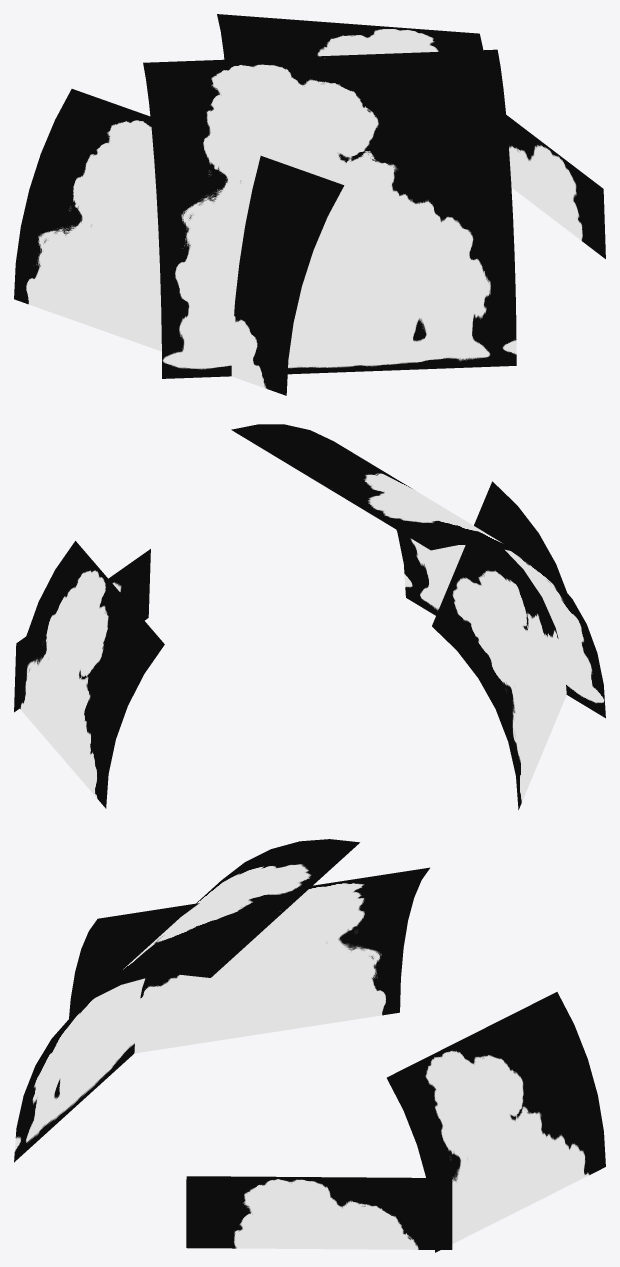
File: Trans.obj
3 renders of one model, top to bottom at view 1: azimuth 30°, elevation 25°; view 2: azimuth 150°, elevation 25°; view 3: azimuth 270°, elevation 25°, orthographic. The views are drawn at different scales.
Size of the model in its own units: 6968 by 3021 by 7256.
Materials: 1 (1 with a texture image).
